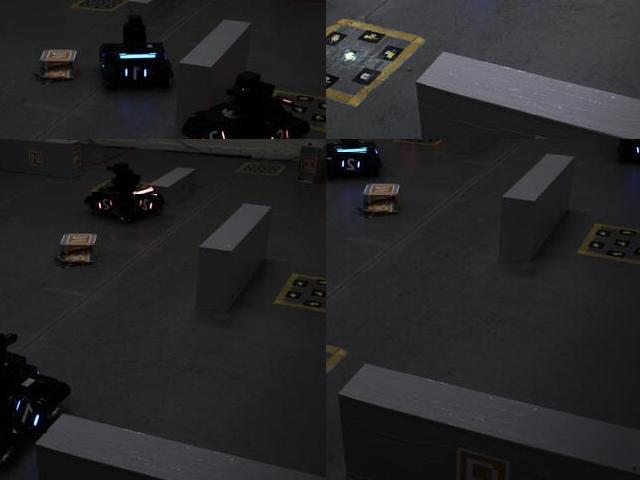armor: (13, 395, 48, 435), (336, 152, 369, 175), (92, 192, 120, 216), (121, 64, 153, 84), (198, 122, 232, 138), (135, 194, 158, 215), (262, 124, 294, 138), (632, 140, 639, 160)
